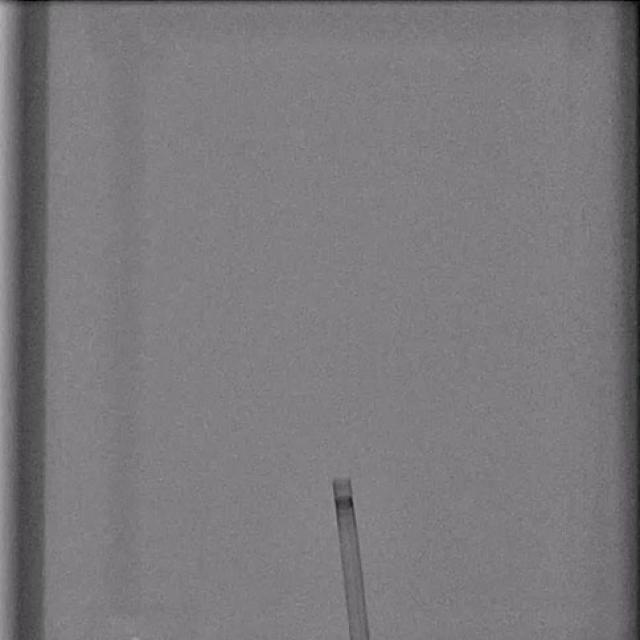entry: (350, 634, 368, 640)
marker: (334, 496, 353, 510)
tip: (332, 478, 351, 483)
